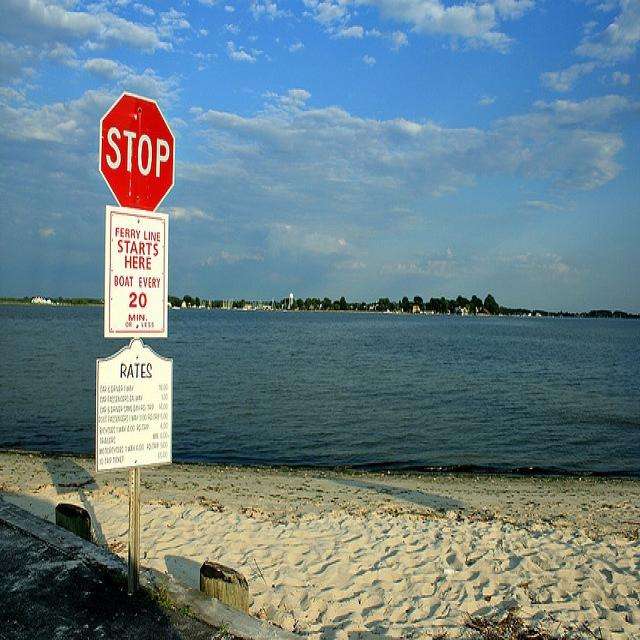pole: (122, 463, 143, 592)
